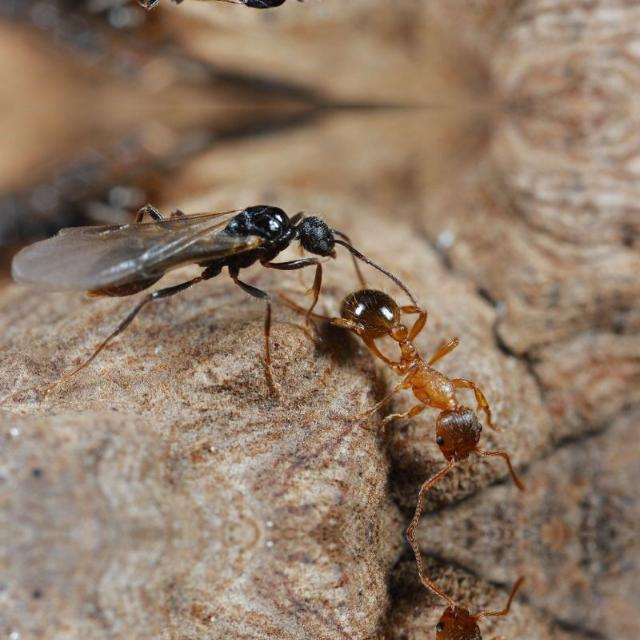Myrmica: (306, 245, 532, 499), (34, 176, 372, 330), (304, 566, 532, 640), (33, 0, 370, 34)
